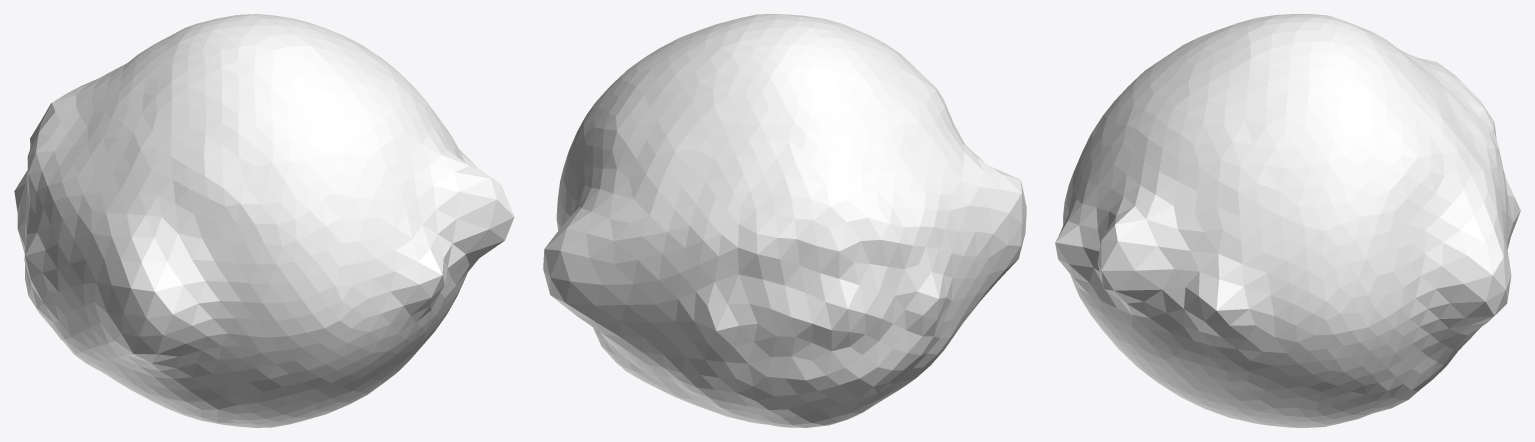
Rendered from plane_rotZ45[0.3,0.0,0.3]s1[-1.7,0.0,-1.7]._00020.obj.
The picture shows the model from 3 angles, left to right: view 1: azimuth 30°, elevation 25°; view 2: azimuth 150°, elevation 25°; view 3: azimuth 270°, elevation 25°; orthographic projection.
Size of the model in its own units: 1 by 0.9001 by 0.9924.
1 material, 1 textured.
